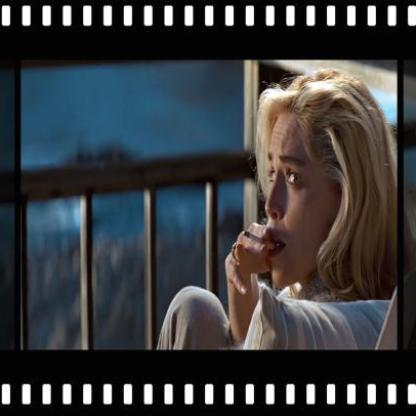cigarette: (242, 226, 272, 250)
person: (254, 88, 402, 296)
